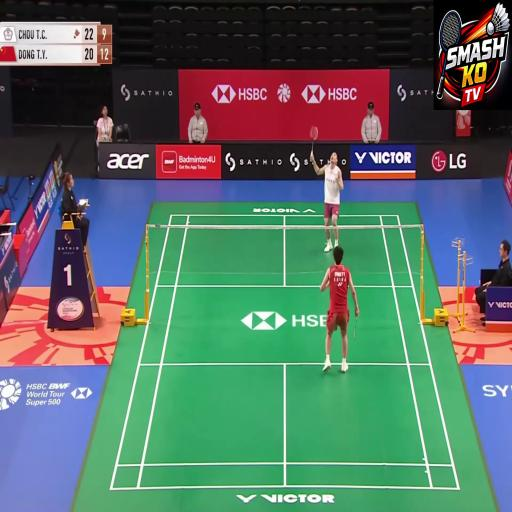player: (310, 253, 362, 378), (315, 135, 352, 257)
